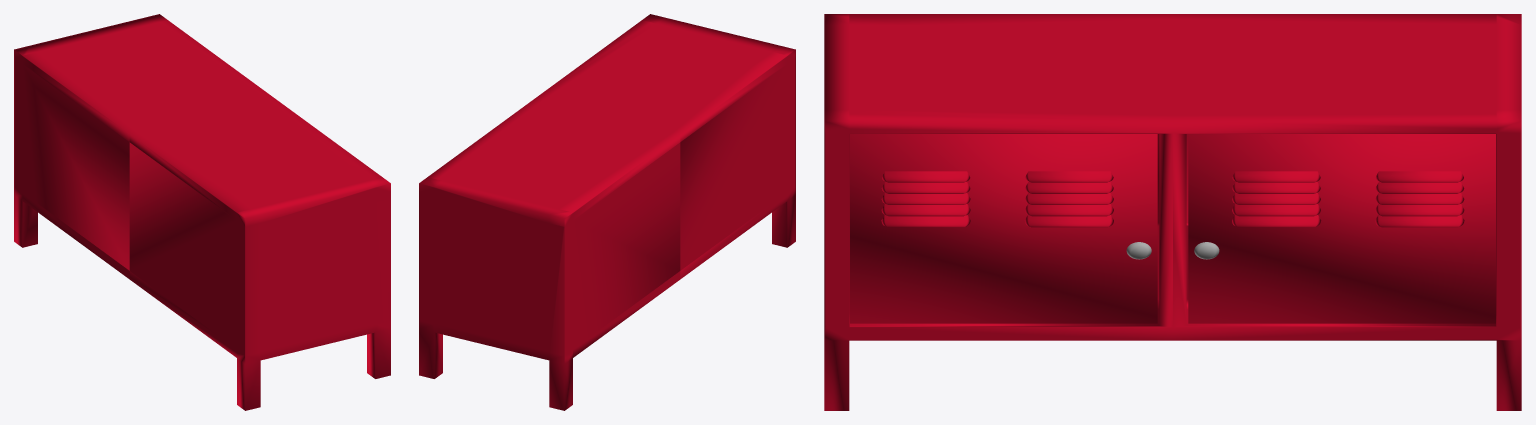
Rendered from redcab.gltf.
The picture shows the model from 3 angles, left to right: view 1: azimuth 30°, elevation 25°; view 2: azimuth 150°, elevation 25°; view 3: azimuth 270°, elevation 25°; orthographic projection. The views are drawn at different scales.
Visible parts, largest first — view 1: redc; view 2: redc; view 3: redc.
Boxes of the visible parts, x1,y1,x2,y2 form: redc: [14, 14, 390, 410]; redc: [419, 14, 795, 410]; redc: [824, 14, 1521, 410].
Bounding box in the file's own units: 0.6356 × 0.7754 × 1.69.
